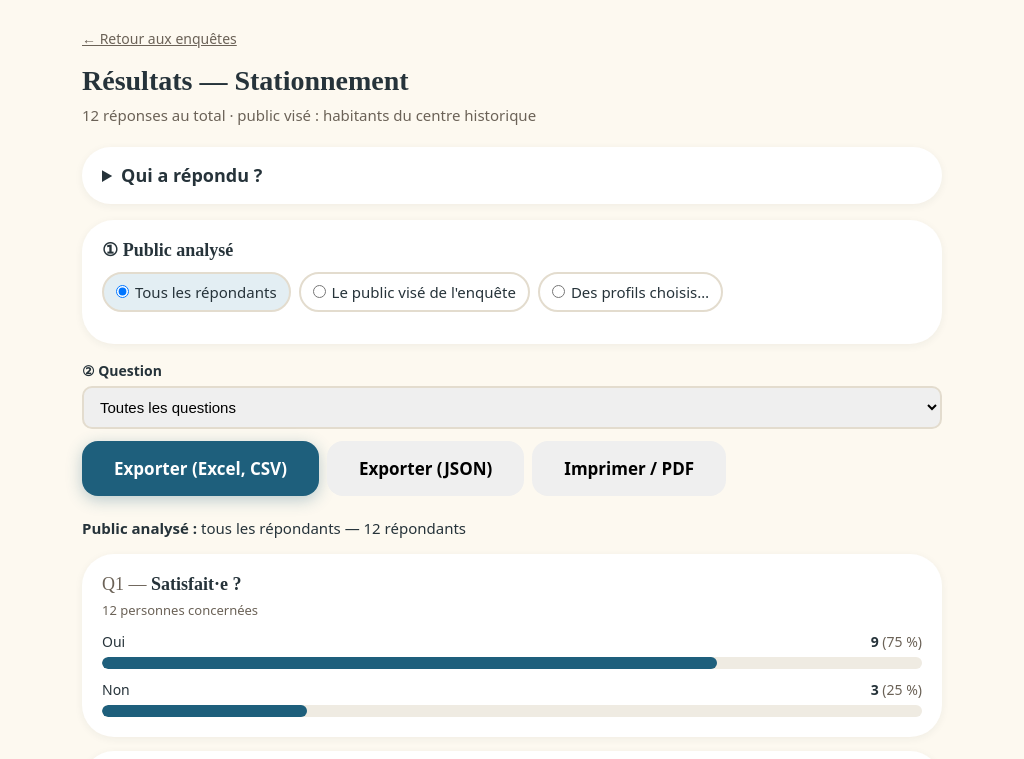
Test: Résultats détaillés › filtre par profils choisis : la requête porte les critères ; un groupe trop petit est masqué
The image size is (1024, 759).
Expected: the heading "Q1 — Satisfait·e ?" is shown, [102, 574, 242, 594]
Step 1. Click the radio button labelled "Des profils choisis…" → click(558, 292), box [552, 285, 565, 298]
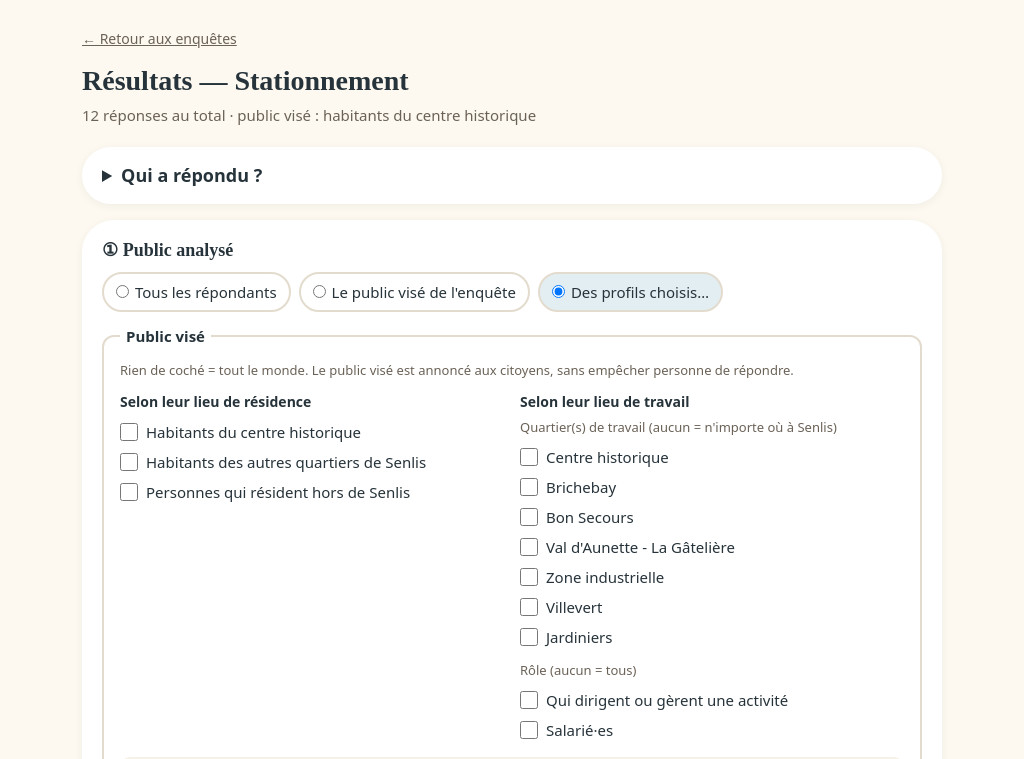
Step 2. Click the checkbox labelled "Personnes qui résident hors de Senlis" → click(129, 492), box [120, 483, 138, 501]
(page scrolled)
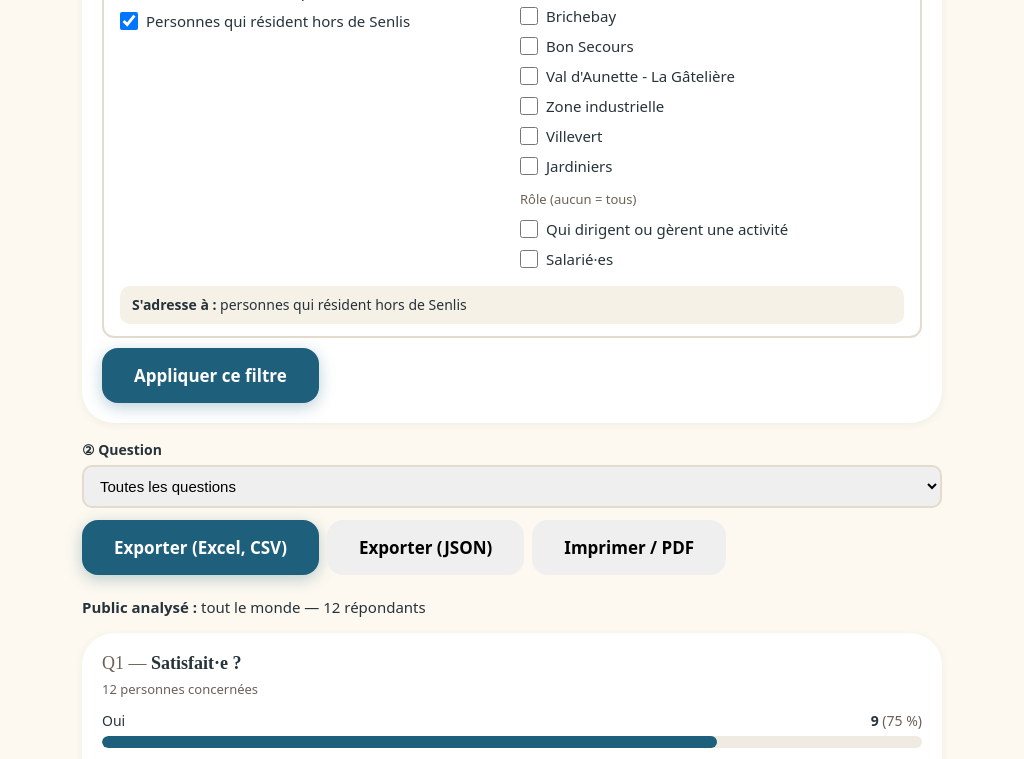
Step 3. Click the button "Appliquer ce filtre" → click(210, 376), box [102, 348, 319, 403]
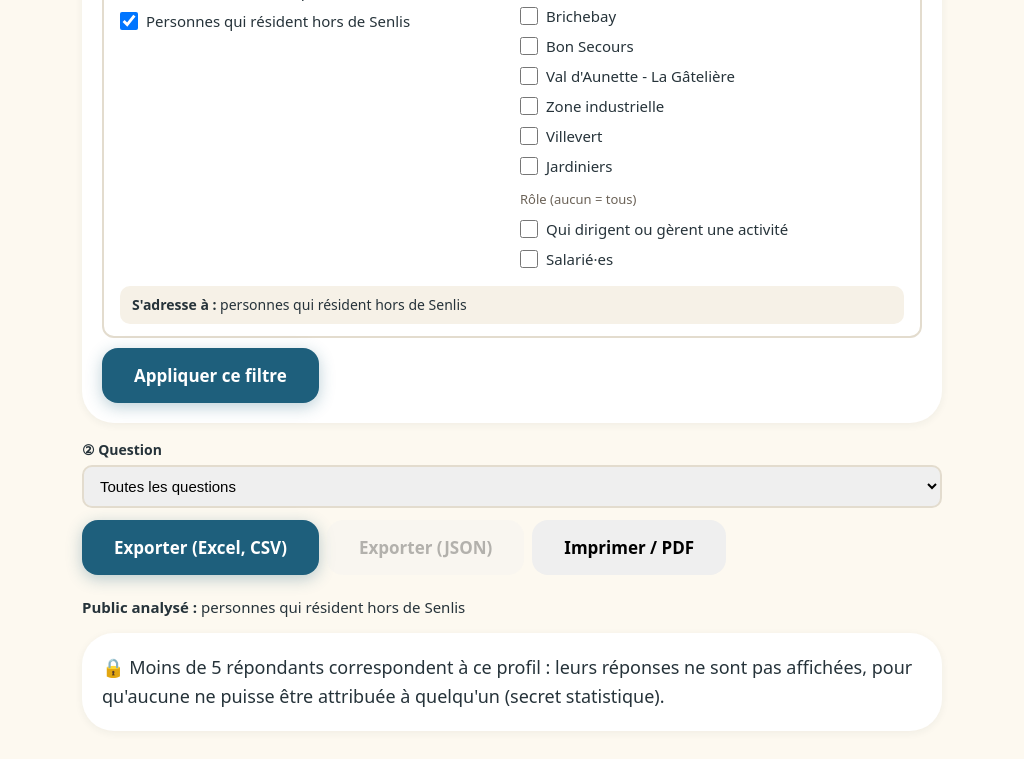
Expected: the button "Exporter (Excel, CSV)" is disabled, [82, 520, 319, 575]
Expected: the text "🔒 Moins de 5 répondants correspondent à ce profil : leurs réponses ne sont pas" is shown, [82, 633, 942, 731]
